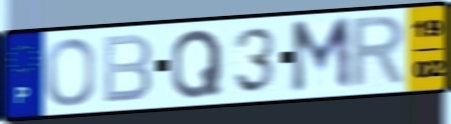3: (232, 26, 277, 94)
B: (101, 32, 155, 106)
M: (288, 14, 354, 97)
O: (44, 36, 97, 108)
Q: (169, 27, 225, 101)
R: (347, 12, 410, 92)
